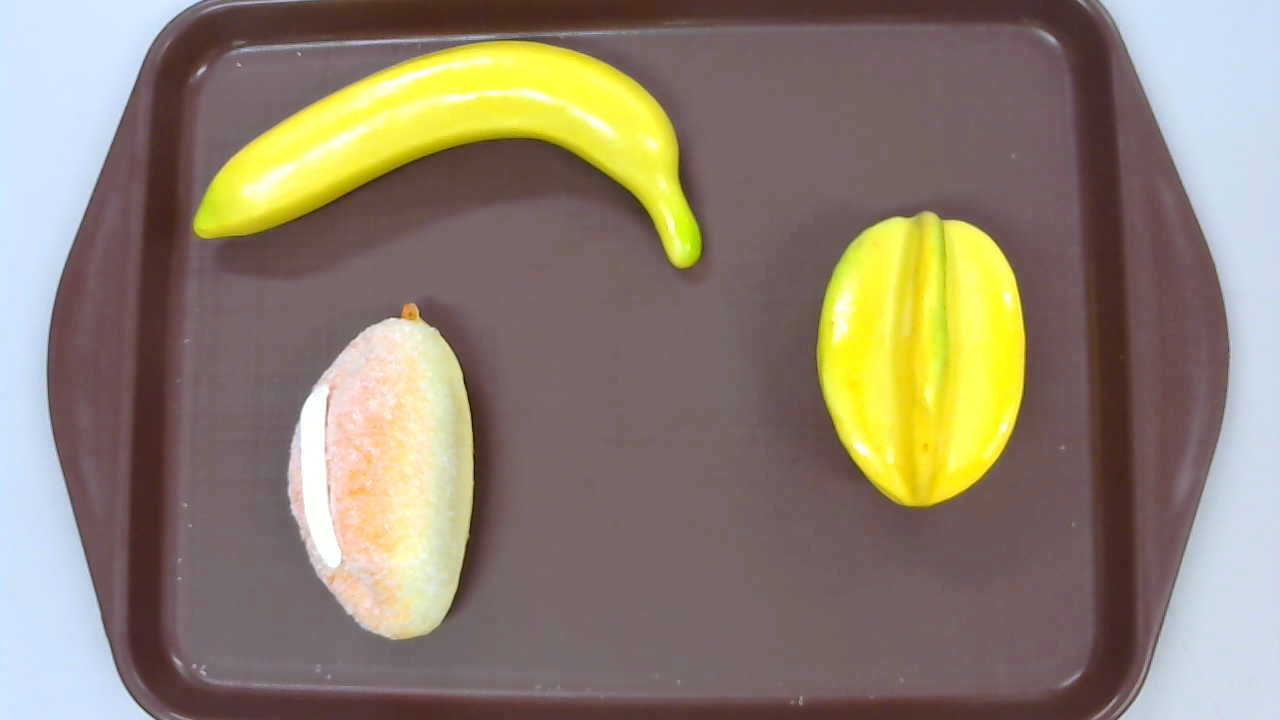banana: (193, 41, 703, 269)
coconut: (288, 304, 474, 641)
star fruit: (817, 211, 1025, 508)
